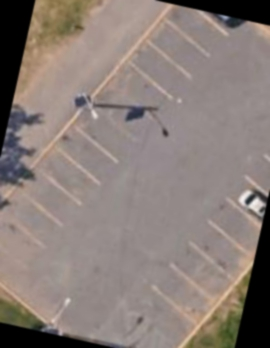parkingspot: (0, 3, 252, 298), (145, 136, 270, 332)
